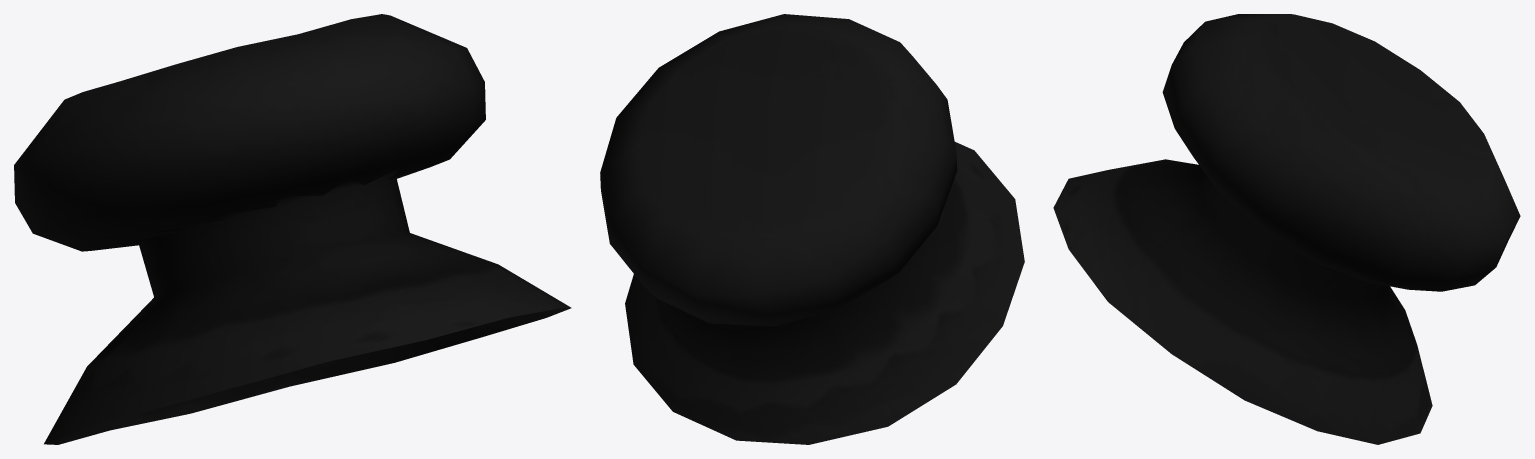
File: YVR_d1_right_joystick.obj
3 views of the same model, side by side, from view 1: azimuth 30°, elevation 25°; view 2: azimuth 150°, elevation 25°; view 3: azimuth 270°, elevation 25° (orthographic). The views are drawn at different scales.
Parts seen in each view (by area): view 1: default001; view 2: default001; view 3: default001.
Part boxes in pixels (<box>): default001: <box>14,14,571,444</box>; default001: <box>600,14,1024,444</box>; default001: <box>1053,14,1520,444</box>.
Size of the model in its own units: 0.0145 by 0.0134 by 0.0154.
Materials: 1 (1 with a texture image).
